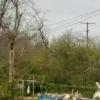Tree: (58, 36, 92, 86)
